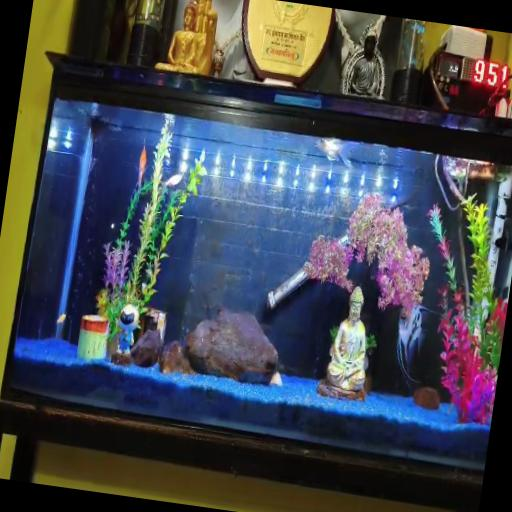Fish: (397, 306, 432, 387), (317, 139, 352, 168), (132, 141, 147, 198), (138, 141, 147, 191), (165, 174, 183, 188), (56, 314, 66, 339), (57, 314, 66, 324)
